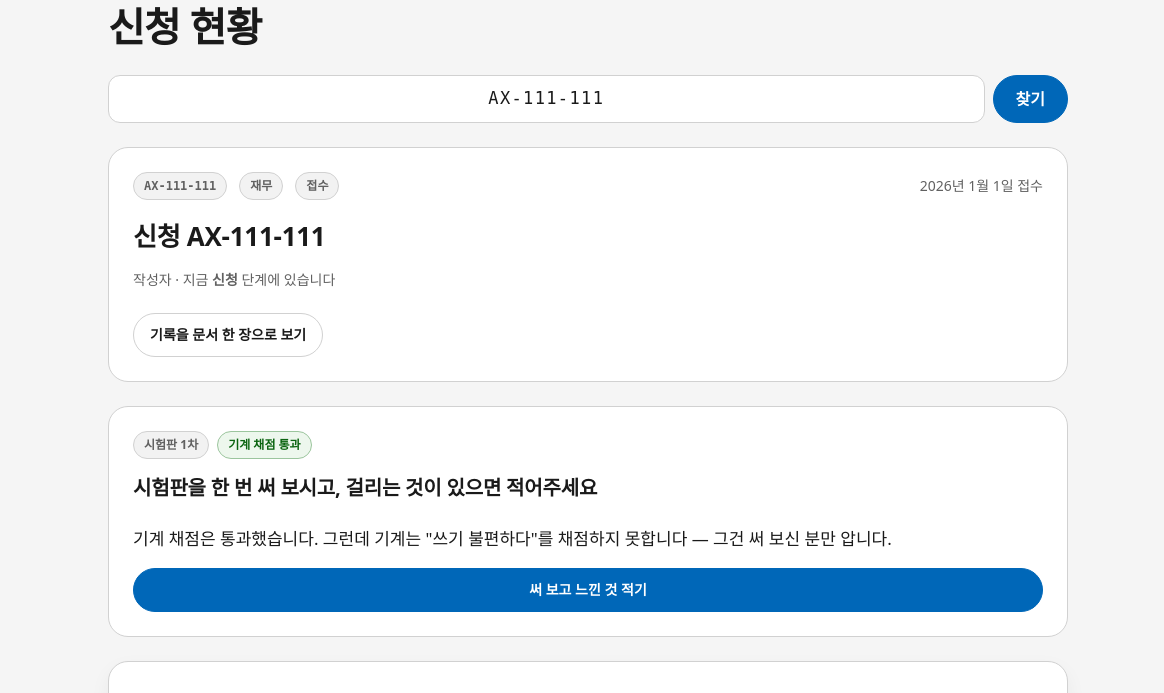
Test case: 접수번호 조회는 현재 URL과 화면 생명주기에 귀속된다 › B 조회가 진행되는 동안 A 본문과 쓰기 폼을 숨긴다
Click the button "써 보고 느낀 것 적기" at (588, 590), box [133,568,1043,612]
(page scrolled)
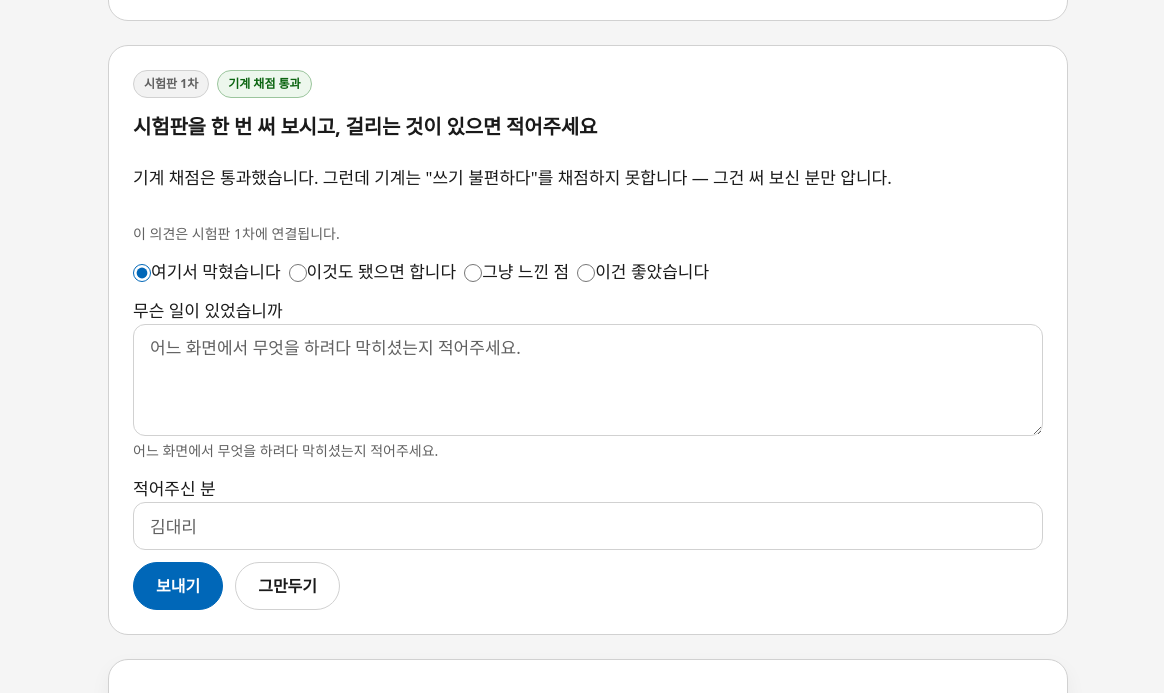
Type "현장 파일에서 오류를 확인했습니다." into the text box labelled "무슨 일이 있었습니까 어느 화면에서 무엇을 하려다 막히셨는지 적어주세요." at (588, 380), box [133,324,1043,436]
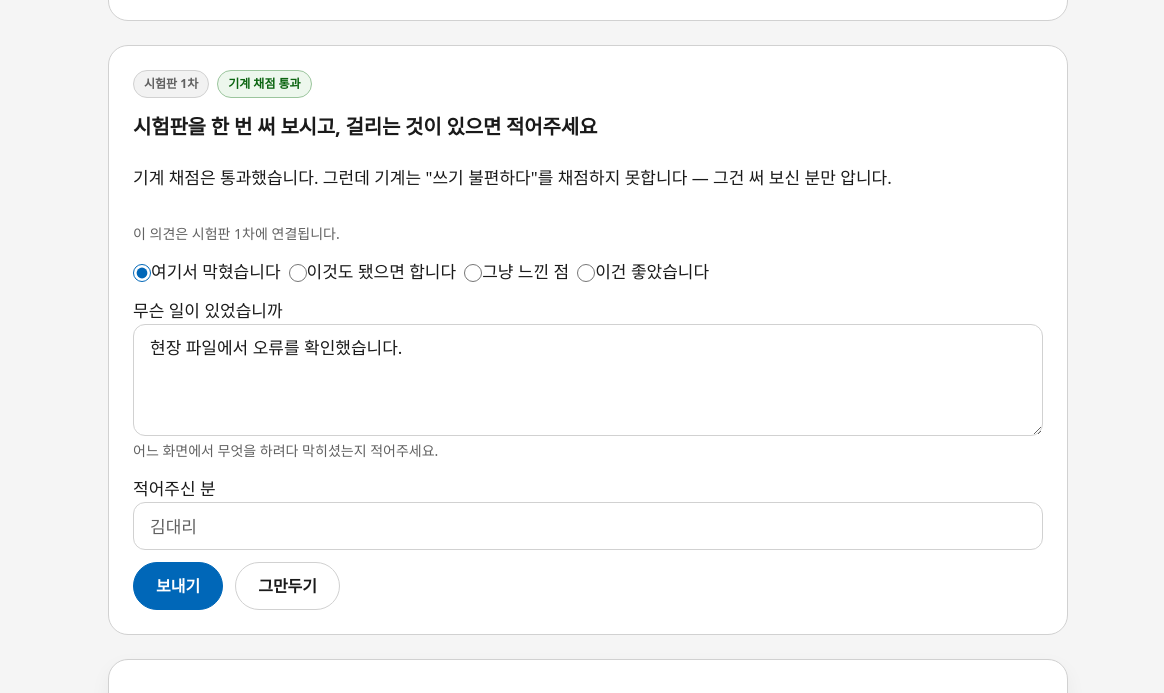
Type "김직원" into the field labelled "적어주신 분" at (588, 526), box [133,502,1043,550]
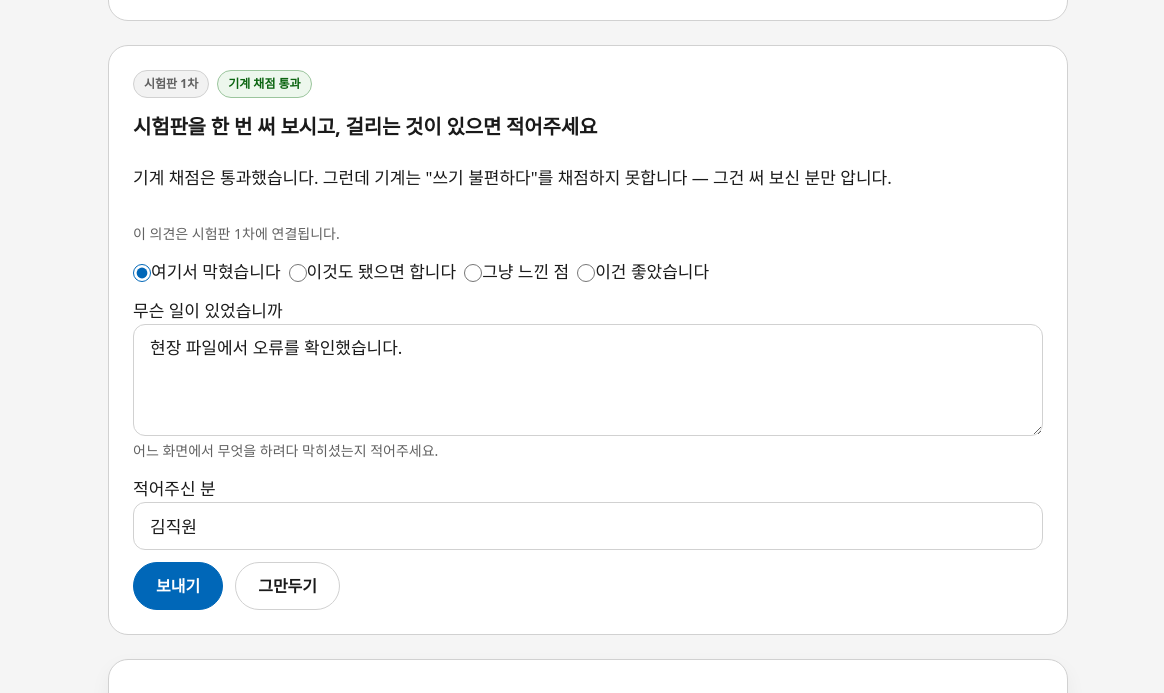
Submit the form, box [133,223,1043,610]
(page scrolled)
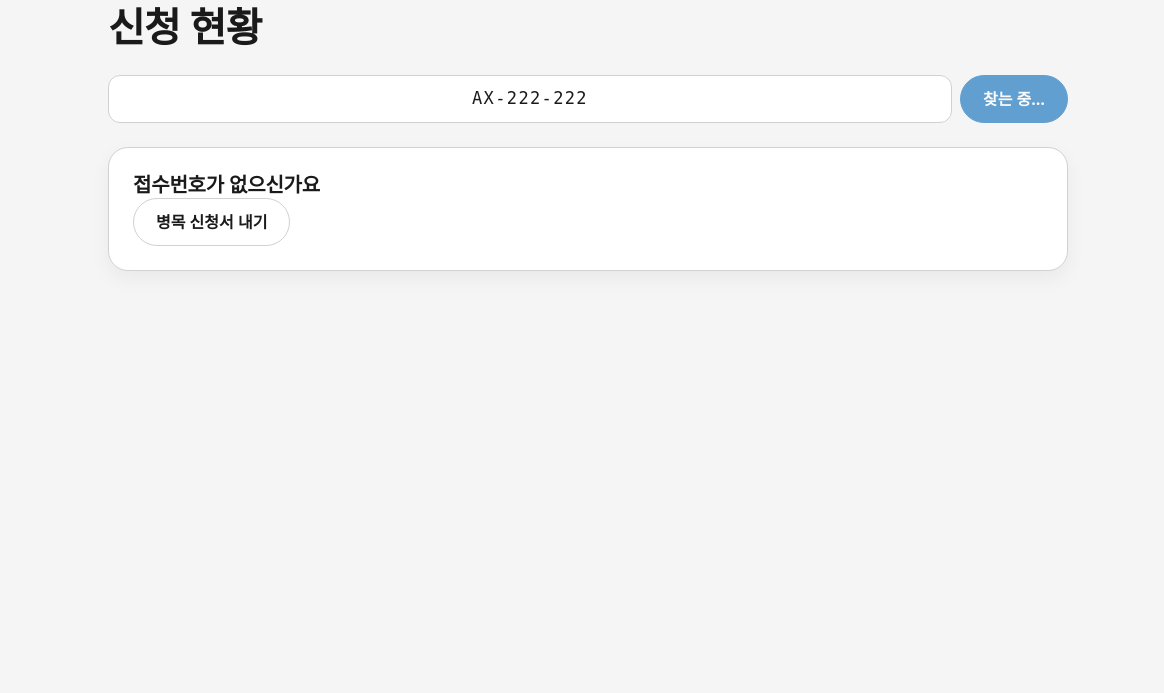
Check: the text labelled "무슨 일이 있었습니까" is gone
Check: the field named "접수번호" holds "AX-222-222", box [108,75,952,123]
